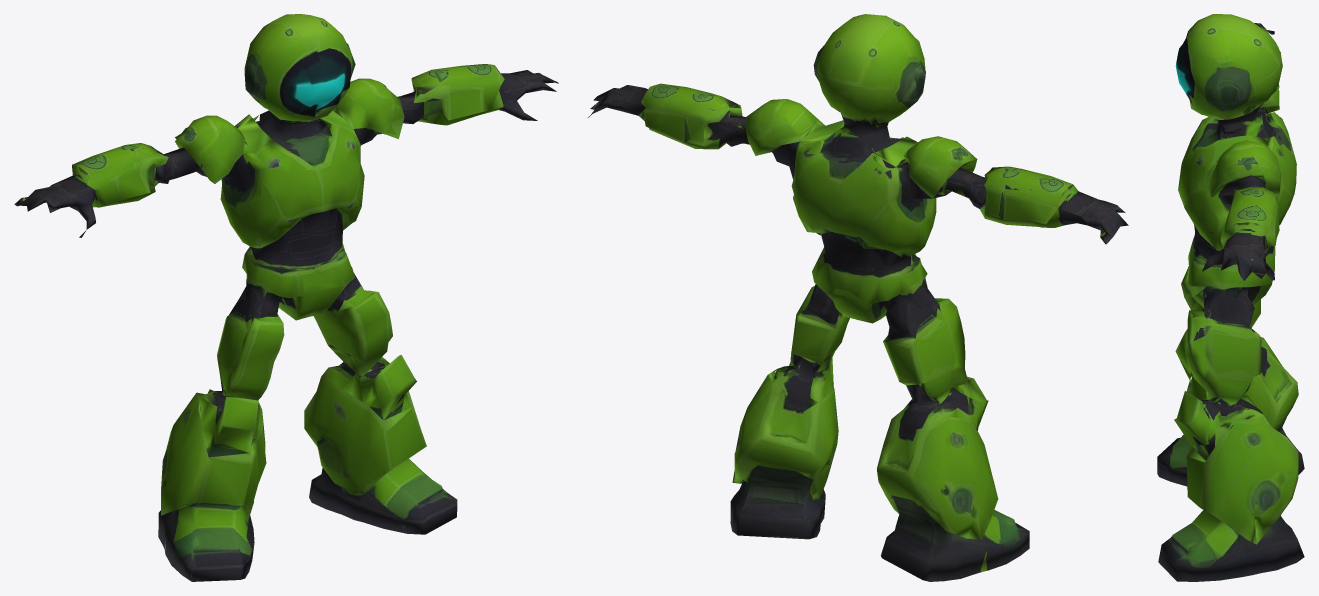
The model's file is robot_trooper.glb.
3 views of the same model, side by side, from view 1: azimuth 30°, elevation 25°; view 2: azimuth 150°, elevation 25°; view 3: azimuth 270°, elevation 25° (orthographic). The views are drawn at different scales.
Size of the model in its own units: 0.9372 by 0.8647 by 0.2305.
Materials: 1 (1 with a texture image).
